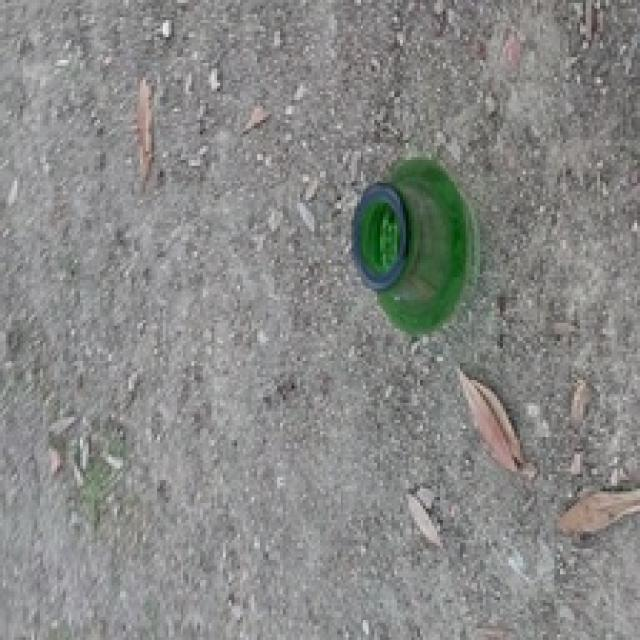Glass: (350, 158, 480, 336)
